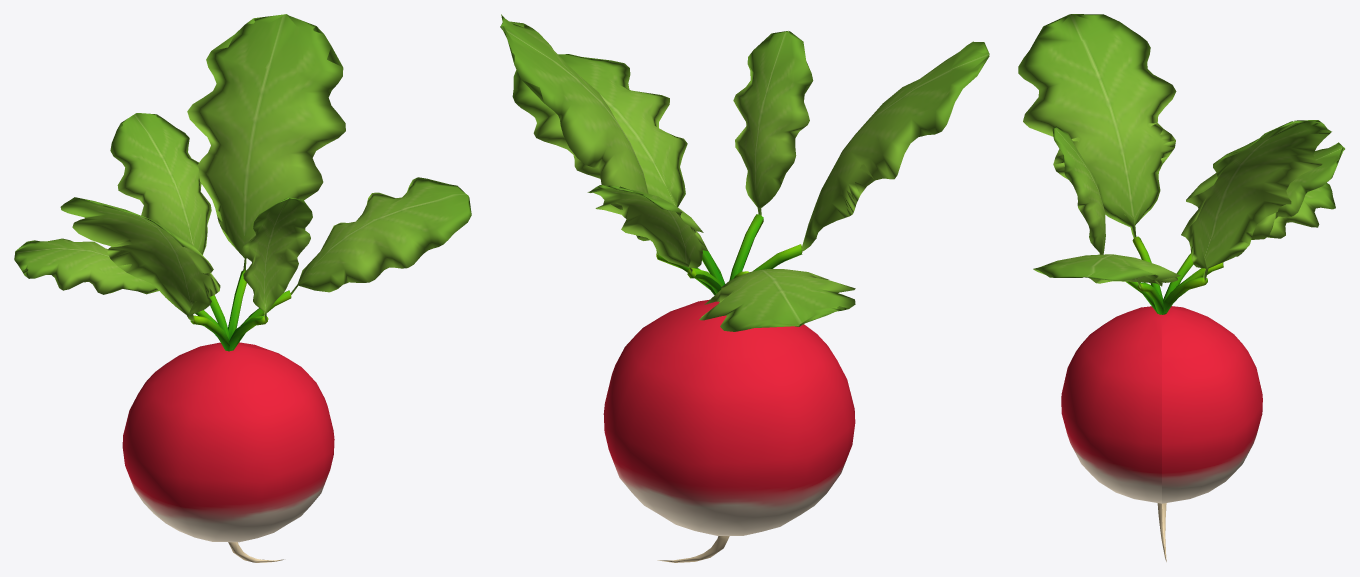
File: NP_Radish_Ready_LOD1.fbx
3 renders of one model, left to right at view 1: azimuth 30°, elevation 25°; view 2: azimuth 150°, elevation 25°; view 3: azimuth 270°, elevation 25°, orthographic. The views are drawn at different scales.
Visible parts, largest first — view 1: NP_Radish_Ready; view 2: NP_Radish_Ready; view 3: NP_Radish_Ready.
Part boxes in pixels (x1,y1,x2,y2): NP_Radish_Ready: [14, 14, 471, 562]; NP_Radish_Ready: [500, 14, 989, 562]; NP_Radish_Ready: [1018, 14, 1344, 561].
Size of the model in its own units: 74.97 by 90.07 by 56.47.
